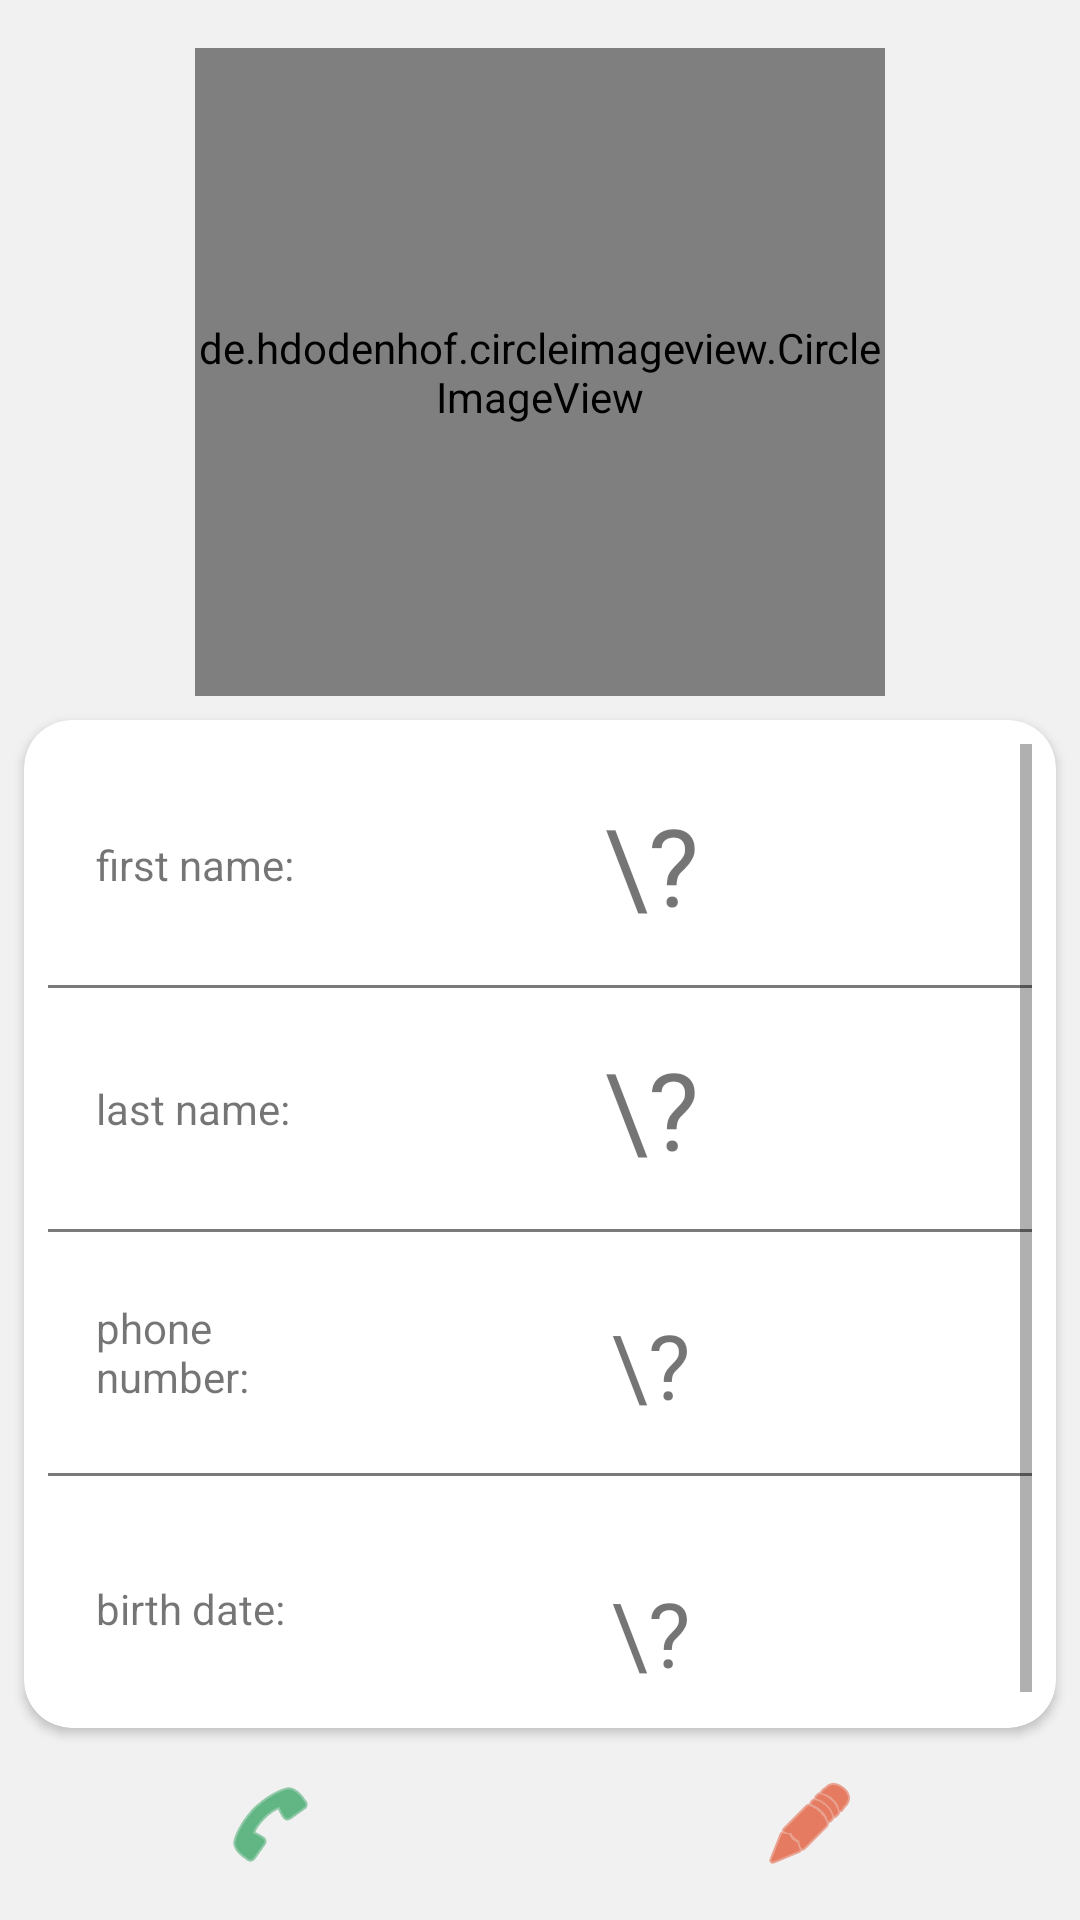

Where icons sit on this 1080 x 1920 app screen, as (x1,y1,x2,y2):
call: (233,1787,308,1862)
edit: (769,1783,850,1864)
